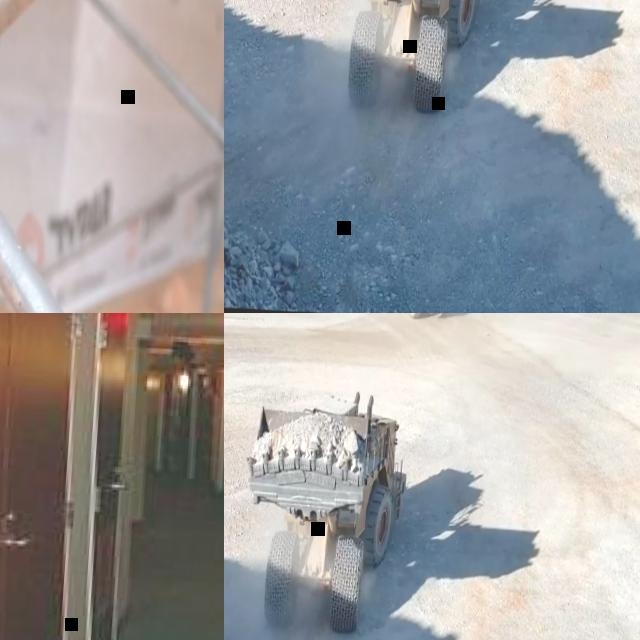machinery: (231, 384, 413, 640), (315, 0, 497, 129)
